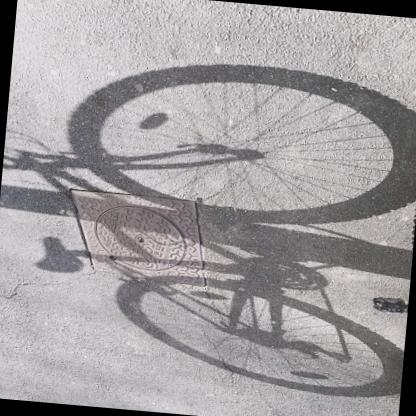manholes: (83, 197, 207, 277)
